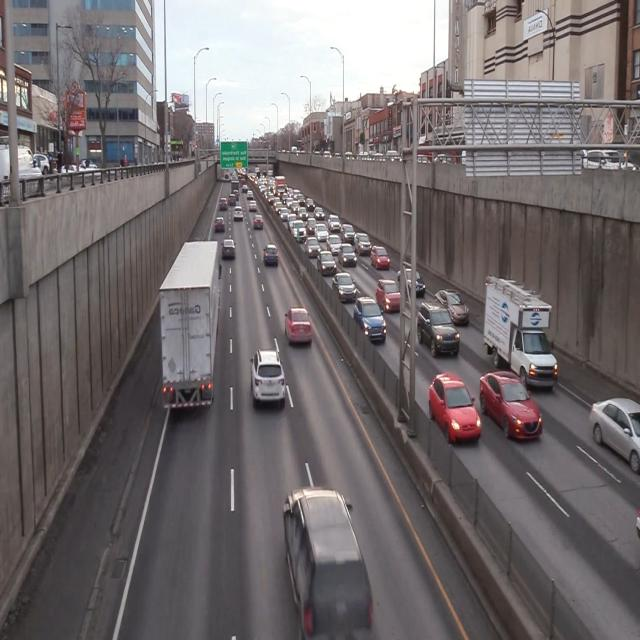Car: (279, 488, 373, 639), (159, 241, 220, 415), (481, 276, 558, 392), (480, 366, 543, 446), (426, 374, 480, 451), (246, 343, 286, 416), (415, 302, 461, 362), (352, 296, 387, 346), (433, 283, 470, 326), (283, 304, 315, 349), (379, 277, 402, 318), (332, 272, 357, 302), (372, 243, 390, 272), (318, 250, 336, 278), (339, 244, 357, 268), (262, 244, 279, 266), (222, 239, 236, 261)
